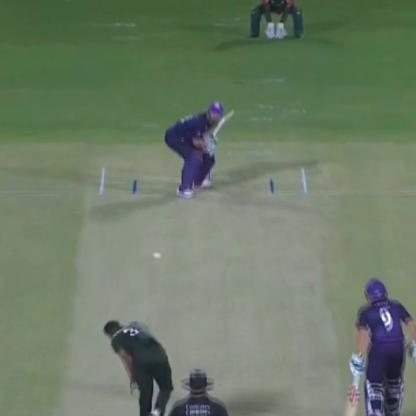ball: (148, 249, 166, 260)
bat: (211, 106, 237, 145)
pitch: (73, 169, 340, 415)
